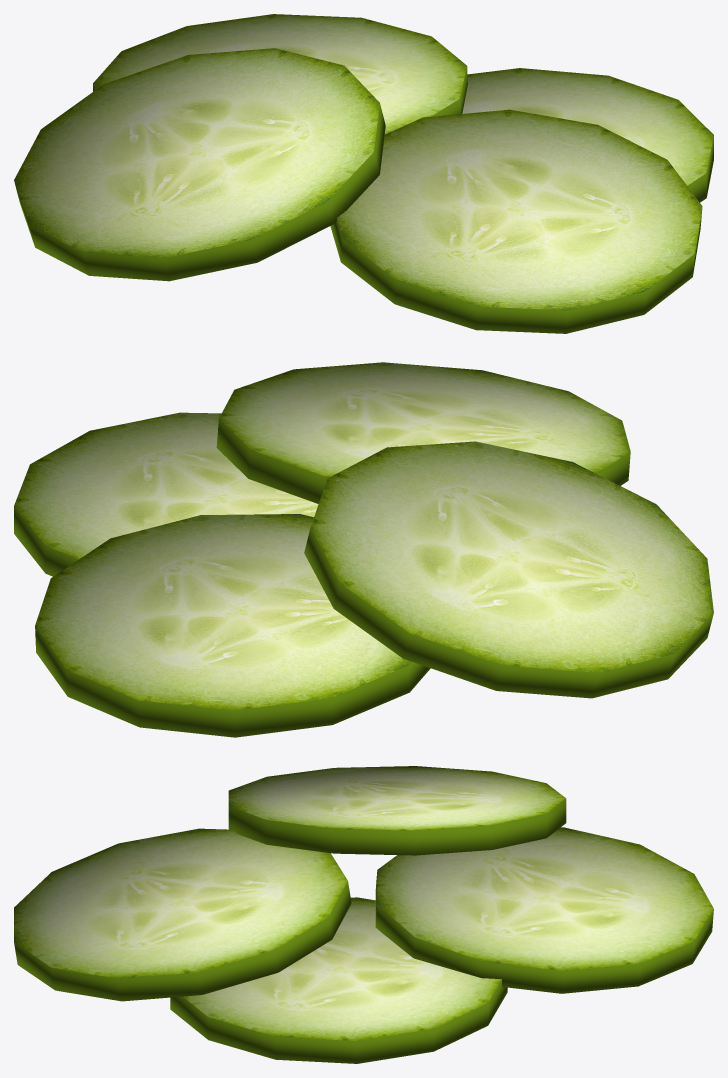
File: cucumbers.fbx
3 views of the same model, one above another, from view 1: azimuth 30°, elevation 25°; view 2: azimuth 150°, elevation 25°; view 3: azimuth 270°, elevation 25° (orthographic). The views are drawn at different scales.
Visible parts, largest first — view 1: cucumber.002, cucumber.001, cucumber.003, cucumber; view 2: cucumber.002, cucumber.003, cucumber.001, cucumber; view 3: cucumber.001, cucumber.003, cucumber, cucumber.002.
Part boxes in pixels (x1=…): cucumber.002: x1=14, y1=48, x2=385, y2=281; cucumber.001: x1=330, y1=109, x2=702, y2=333; cucumber.003: x1=93, y1=14, x2=467, y2=134; cucumber: x1=462, y1=68, x2=713, y2=202; cucumber.002: x1=304, y1=441, x2=713, y2=698; cucumber.003: x1=35, y1=514, x2=430, y2=737; cucumber.001: x1=216, y1=362, x2=630, y2=503; cucumber: x1=14, y1=412, x2=318, y2=576; cucumber.001: x1=14, y1=828, x2=351, y2=1001; cucumber.003: x1=375, y1=827, x2=713, y2=993; cucumber: x1=170, y1=897, x2=507, y2=1063; cucumber.002: x1=228, y1=766, x2=566, y2=855.
Bounding box in the file's own units: 55.06 × 9.35 × 59.64.
1 material, 1 textured.
